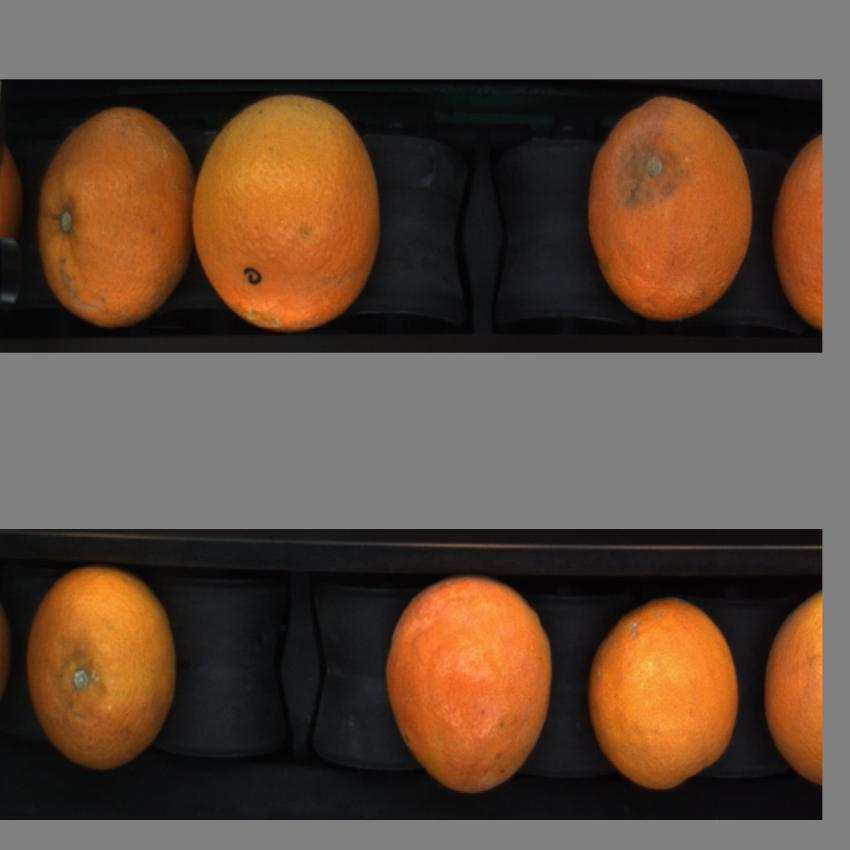Buen estado: (190, 88, 388, 340), (381, 569, 561, 805), (23, 557, 186, 783), (33, 107, 195, 329), (583, 584, 743, 805), (760, 583, 824, 794), (768, 121, 824, 335)
Mal estado: (583, 88, 759, 326)
